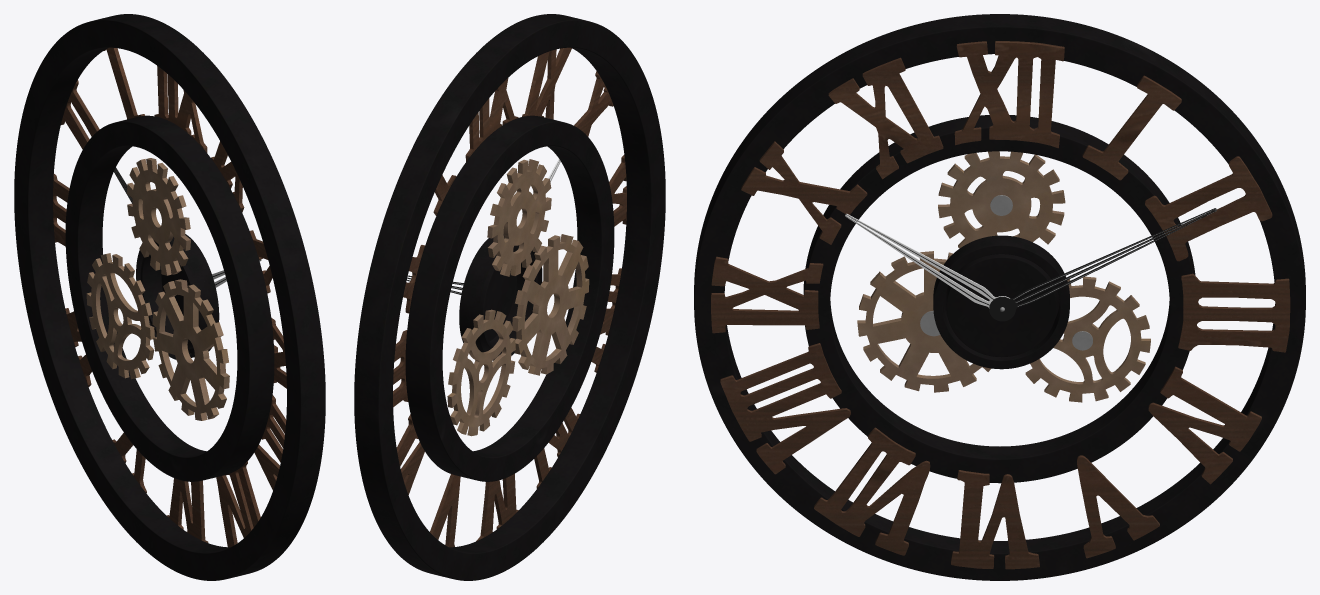
The model's file is gear_clock.glb.
The picture shows the model from 3 angles, left to right: view 1: azimuth 30°, elevation 25°; view 2: azimuth 150°, elevation 25°; view 3: azimuth 270°, elevation 25°; orthographic projection. The views are drawn at different scales.
Visible parts, largest first — view 1: Gear Cover, Circle.002, I; view 2: Gear Cover, Circle.002, I; view 3: Gear Cover, I, Circle.002, Minute Hand, Hour Hand, Circle.001.
Part boxes in pixels (<box>): Gear Cover: <box>14,14,325,580</box>; Circle.002: <box>86,158,229,420</box>; I: <box>53,47,286,547</box>; Gear Cover: <box>354,14,665,580</box>; Circle.002: <box>447,159,589,436</box>; I: <box>393,47,626,547</box>; Gear Cover: <box>694,14,1305,580</box>; I: <box>711,41,1290,569</box>; Circle.002: <box>857,151,1150,402</box>; Minute Hand: <box>989,208,1216,321</box>; Hour Hand: <box>845,213,1009,308</box>; Circle.001: <box>920,195,1092,350</box>.
Size of the model in its own units: 0.0418 by 0.5902 by 0.5902.
Materials: 8 (8 with a texture image).
